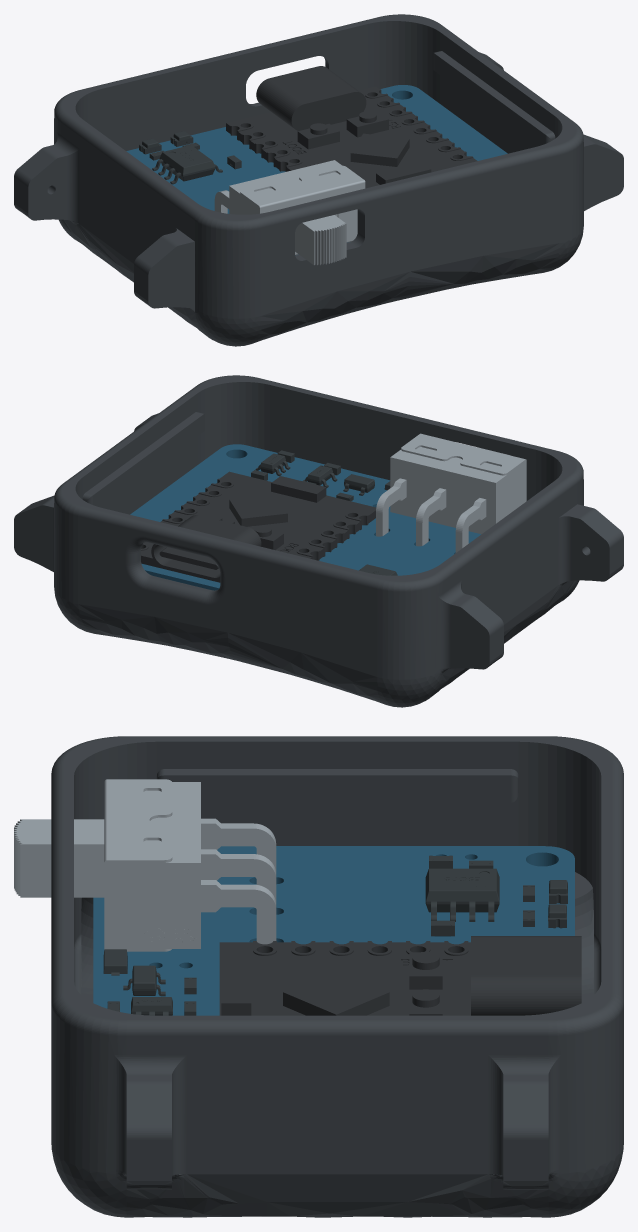
The model's file is tsi-watch-cad.glb.
3 views of the same model, one above another, from view 1: azimuth 30°, elevation 25°; view 2: azimuth 150°, elevation 25°; view 3: azimuth 270°, elevation 25° (orthographic). The views are drawn at different scales.
Visible parts, largest first — view 1: WATCH enclosure, WATCH board-mounted-form, WATCH board, WATCH large-detail-b, WATCH large-detail-a, WATCH electronic-details; view 2: WATCH enclosure, WATCH board-mounted-form, WATCH board, WATCH large-detail-b, WATCH large-detail-a, WATCH electronic-details; view 3: WATCH enclosure, WATCH board, WATCH board-mounted-form, WATCH large-detail-b, WATCH electronic-details, WATCH large-detail-a.
Boxes of the visible parts, box(x1,y1,x2,y2) form: WATCH enclosure: box(14, 14, 623, 346); WATCH board-mounted-form: box(226, 66, 477, 188); WATCH board: box(126, 85, 507, 255); WATCH large-detail-b: box(214, 160, 346, 265); WATCH large-detail-a: box(240, 165, 365, 255); WATCH electronic-details: box(139, 131, 241, 184); WATCH enclosure: box(14, 375, 623, 707); WATCH board-mounted-form: box(141, 471, 376, 582); WATCH board: box(130, 444, 480, 590); WATCH large-detail-b: box(376, 437, 525, 552); WATCH large-detail-a: box(401, 433, 526, 501); WATCH electronic-details: box(251, 450, 397, 575); WATCH enclosure: box(51, 736, 623, 1217); WATCH board: box(93, 846, 574, 1015); WATCH board-mounted-form: box(219, 936, 581, 1015); WATCH large-detail-b: box(14, 782, 276, 948); WATCH electronic-details: box(103, 855, 567, 1015); WATCH large-detail-a: box(104, 779, 172, 951).
Size of the model in its own units: 0.572 by 0.16 by 0.4048.
